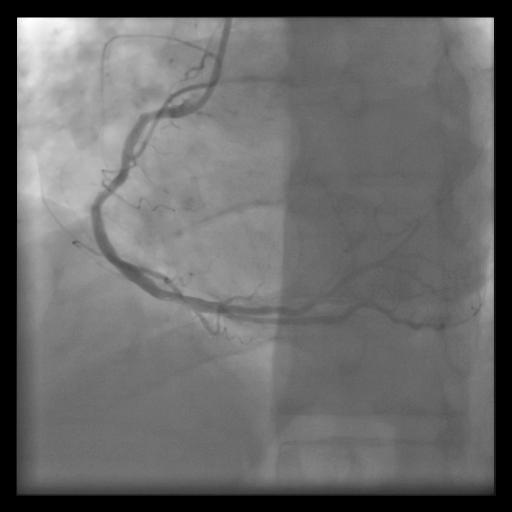Stenosis: (161, 283, 199, 315)
